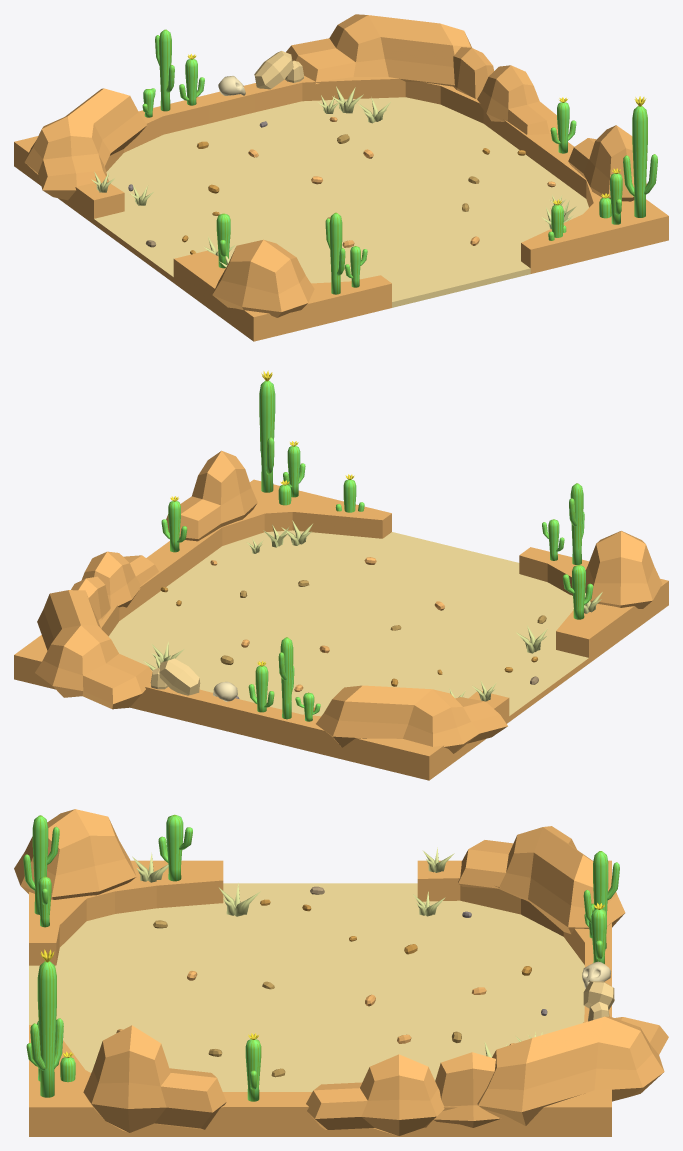
Rendered from desert level set - 2 Way (4).fbx.
The picture shows the model from 3 angles, top to bottom: view 1: azimuth 30°, elevation 25°; view 2: azimuth 150°, elevation 25°; view 3: azimuth 270°, elevation 25°; orthographic projection. The views are drawn at different scales.
Parts seen in each view (by area): view 1: land_platform_001, Cube_008, Cube_004, Cube_005, Cube_000, Cube_009, CACTUS_009, Cube_006, Cube_007, CACTUS_002, CACTUS_008, CACTUS_001 (+5 smaller); view 2: land_platform_001, Cube_004, Cube_008, Cube_005, Cube_009, Cube_000, CACTUS_009, Cube_007, CACTUS_008, CACTUS_002, CACTUS_006, Cube_006 (+3 smaller); view 3: land_platform_001, Cube_008, Cube_009, Cube_004, Cube_000, Cube_005, Cube_006, CACTUS_009, CACTUS_002, CACTUS_006, CACTUS_008, Cube_007 (+5 smaller).
Part boxes in pixels (x1,y1,x2,y2): land_platform_001: (14, 75, 668, 341); Cube_008: (286, 14, 471, 86); Cube_004: (24, 88, 146, 200); Cube_005: (212, 239, 314, 317); Cube_000: (477, 65, 558, 134); Cube_009: (568, 125, 646, 201); CACTUS_009: (623, 96, 657, 217); Cube_006: (453, 47, 493, 98); Cube_007: (254, 51, 303, 89); CACTUS_002: (325, 212, 345, 294); CACTUS_008: (155, 29, 174, 111); CACTUS_001: (550, 97, 576, 153); land_platform_001: (14, 479, 668, 780); Cube_004: (316, 685, 507, 753); Cube_008: (35, 590, 152, 709); Cube_005: (585, 531, 662, 608); Cube_009: (166, 450, 257, 541); Cube_000: (81, 551, 158, 607); CACTUS_009: (259, 370, 275, 492); Cube_007: (150, 658, 200, 695); CACTUS_008: (278, 637, 294, 719); CACTUS_002: (569, 483, 584, 564); CACTUS_006: (562, 565, 593, 619); Cube_006: (71, 576, 110, 621); land_platform_001: (29, 860, 611, 1136); Cube_008: (477, 1016, 668, 1125); Cube_009: (83, 1025, 226, 1132); Cube_004: (458, 826, 625, 933); Cube_000: (306, 1054, 444, 1135); Cube_005: (14, 809, 136, 899); Cube_006: (433, 1052, 500, 1127); CACTUS_009: (30, 949, 63, 1097); CACTUS_002: (23, 815, 59, 914); CACTUS_006: (158, 814, 192, 881); CACTUS_008: (583, 851, 619, 949); Cube_007: (583, 981, 614, 1021).
Bounding box in the file's own units: 16.79 × 5.03 × 17.05.
